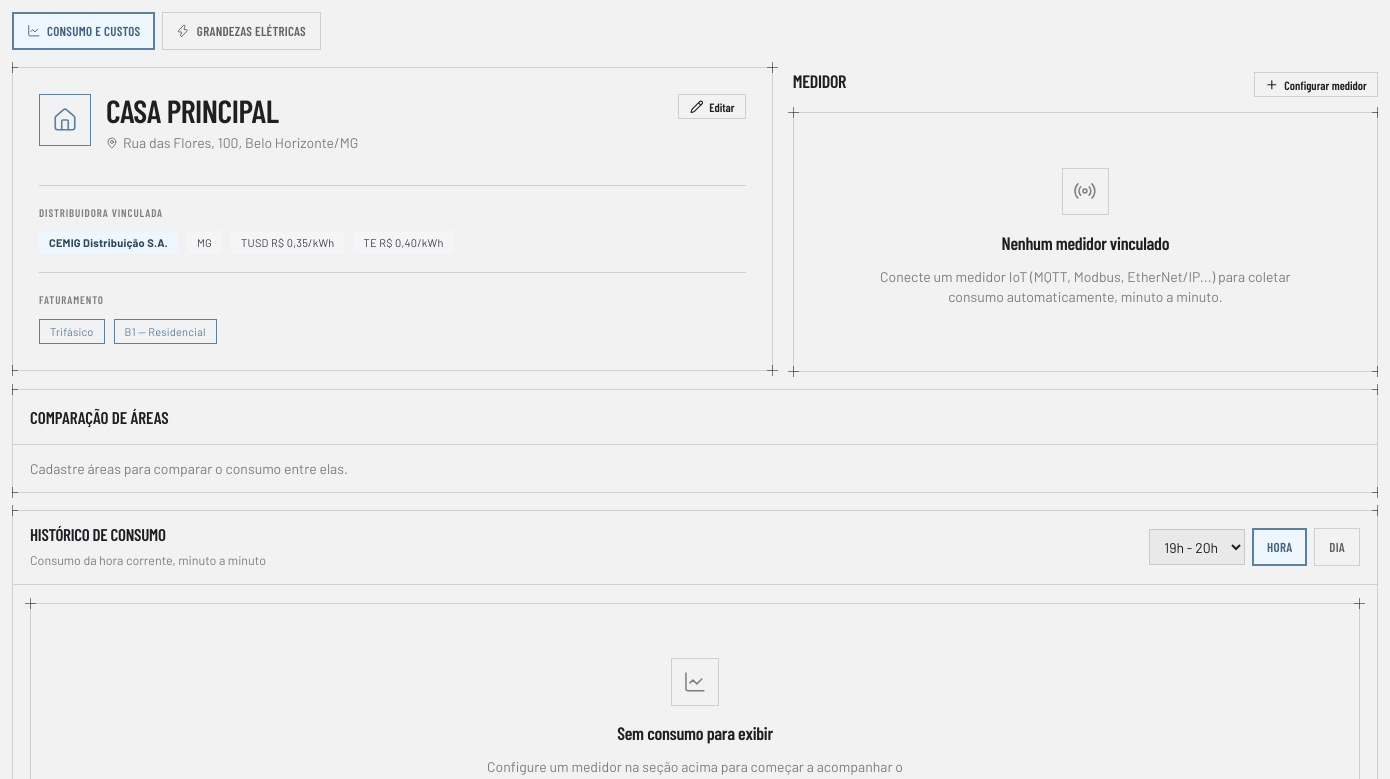
Test: PropertyDetailsPage — aba Grandezas Elétricas › clicar em Grandezas Elétricas troca o conteúdo da página, sem medidor mostra o estado vazio correspondente
Expected: the heading "Casa Principal" is shown, [106,91,278,129]
Click the tab "Grandezas Elétricas": (241, 31) [162,12,320,50]
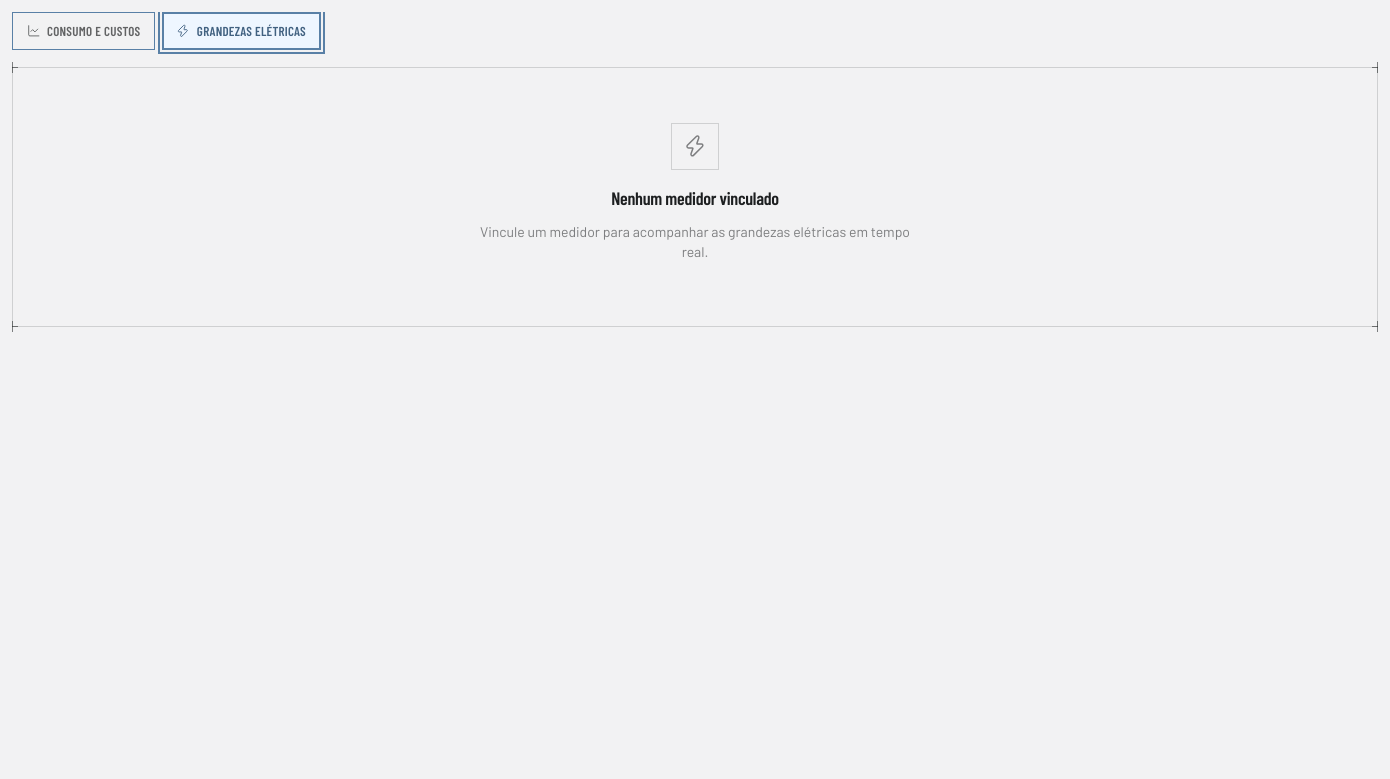
Expected: the heading "Nenhum medidor vinculado" is shown, [611,187,779,209]
Expected: the heading "Casa Principal" is gone
